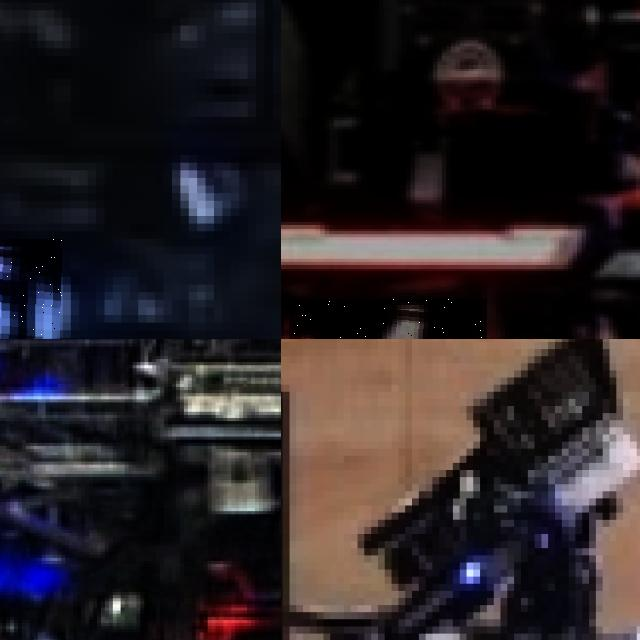B5: (0, 239, 62, 339)
R4: (288, 298, 487, 339)
